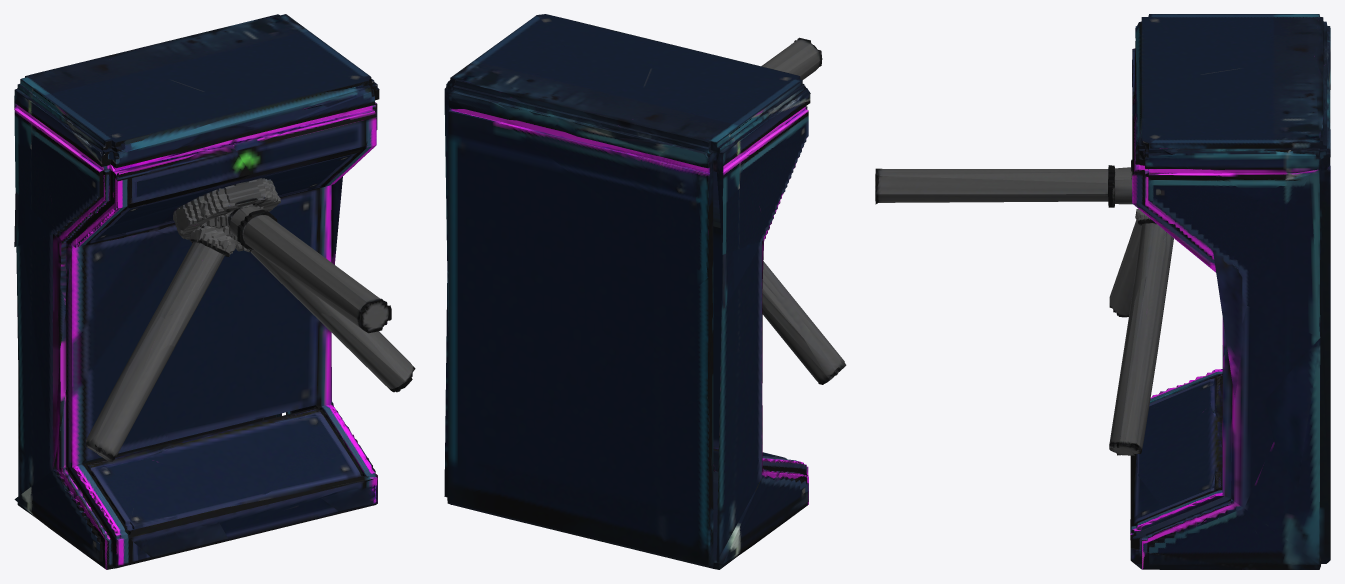
File: molinete-entrada.glb
3 views of the same model, side by side, from view 1: azimuth 30°, elevation 25°; view 2: azimuth 150°, elevation 25°; view 3: azimuth 270°, elevation 25° (orthographic).
Parts seen in each view (by area): view 1: Mesh_0; view 2: Mesh_0; view 3: Mesh_0.
Part boxes in pixels (bbox=[...]): Mesh_0: bbox=[14, 14, 415, 569]; Mesh_0: bbox=[444, 14, 846, 569]; Mesh_0: bbox=[875, 14, 1330, 569].
Size of the model in its own units: 1.52 by 1.9 by 1.85.
Materials: 1 (1 with a texture image).
